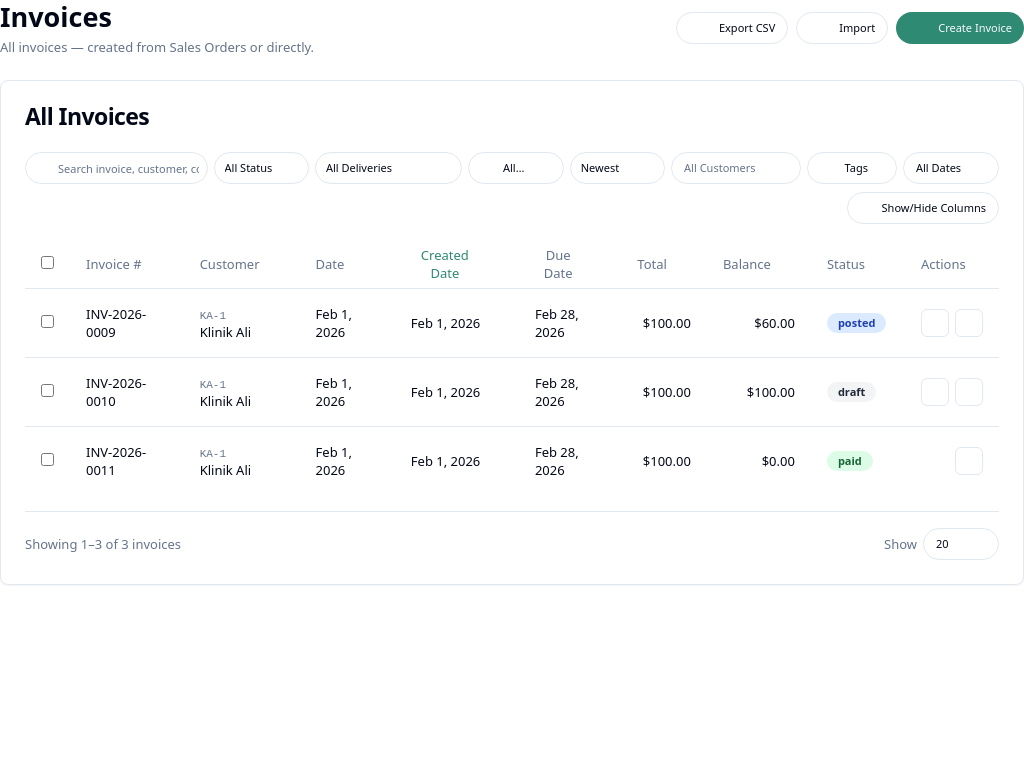
Test: InvoicesPage — Register payment row action (#491 PAY-UX5) › opens the payment dialog in place, prefilled with the balance and today
Click the button titled "Register payment" at x=969, y=322, box [955,308,983,336]
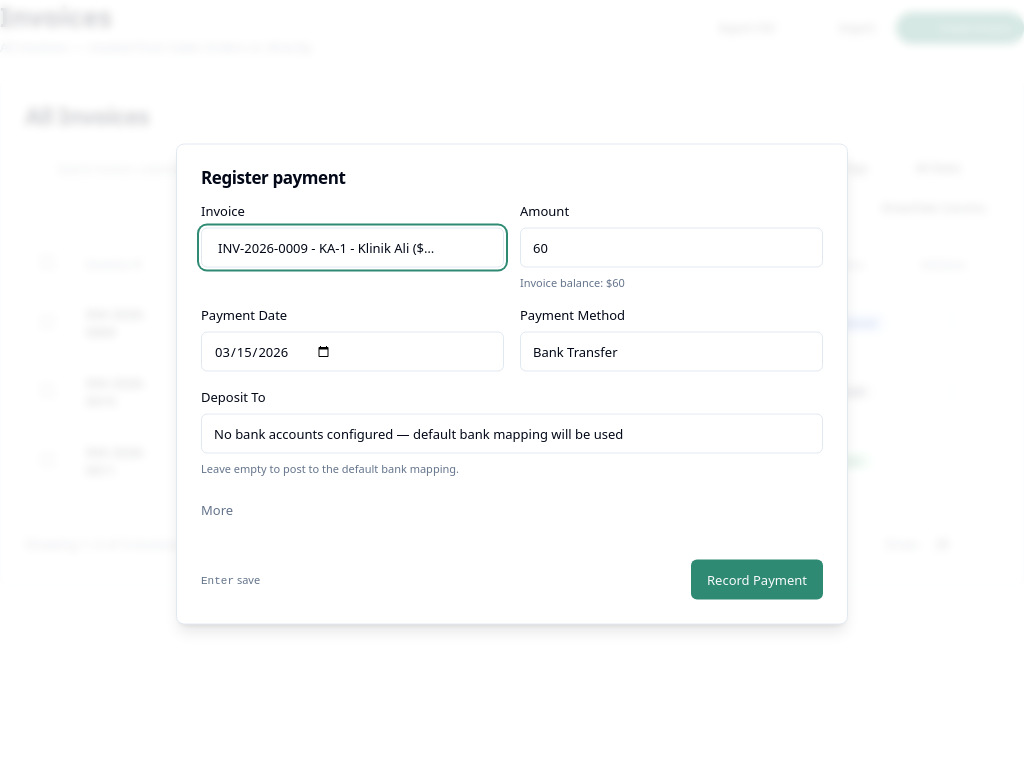
Check: the number field labelled "Amount" holds "60", box [520,228,823,268]
Check: the date field labelled "Payment Date" holds "2026-03-15", box [201,332,504,372]
